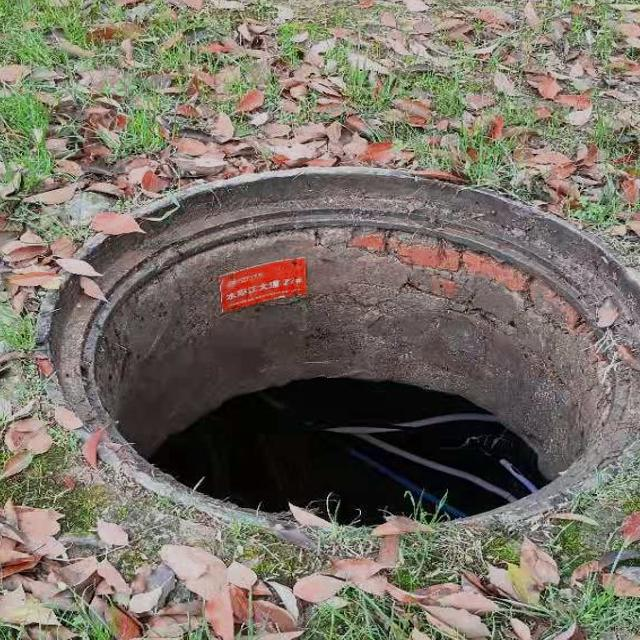lose: (28, 165, 640, 540)
